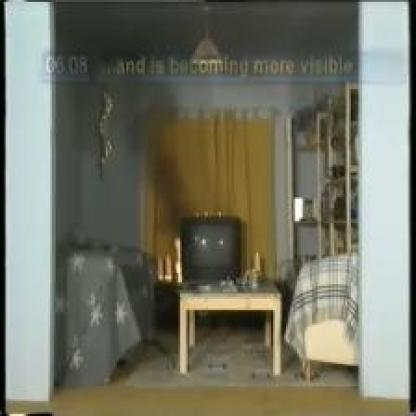smoke: (135, 116, 184, 212)
